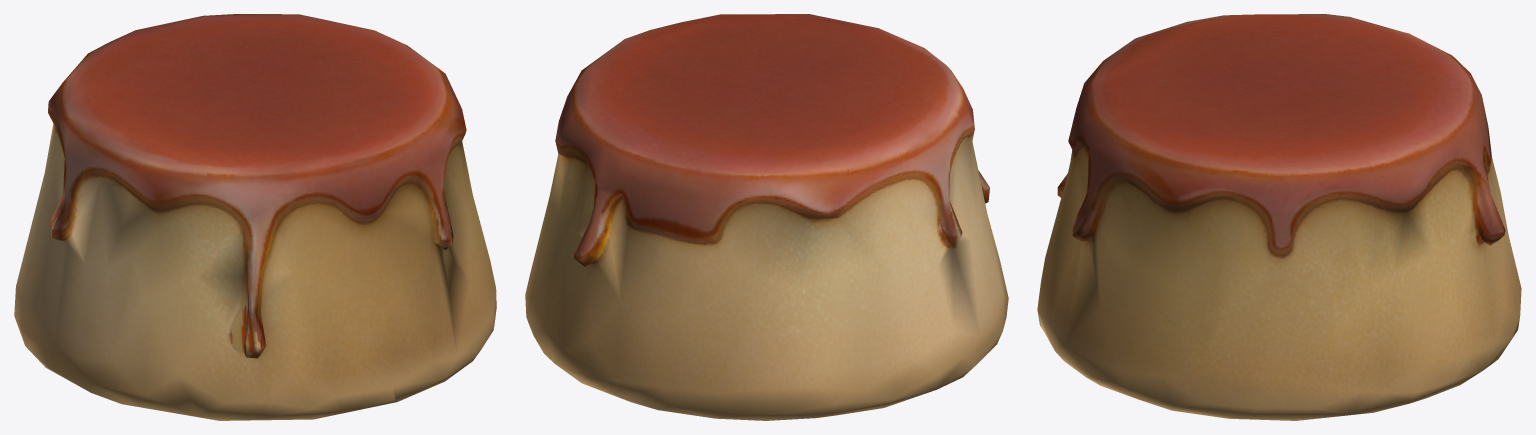
File: Food_Pudding.fbx
The picture shows the model from 3 angles, left to right: view 1: azimuth 30°, elevation 25°; view 2: azimuth 150°, elevation 25°; view 3: azimuth 270°, elevation 25°; orthographic projection.
Visible parts, largest first — view 1: Food_Pudding; view 2: Food_Pudding; view 3: Food_Pudding.
Boxes of the visible parts, x1,y1,x2,y2 form: Food_Pudding: [14, 14, 496, 420]; Food_Pudding: [525, 14, 1008, 420]; Food_Pudding: [1037, 14, 1521, 420].
Bounding box in the file's own units: 0.2592 × 0.1451 × 0.26.
Materials: 1 (1 with a texture image).
